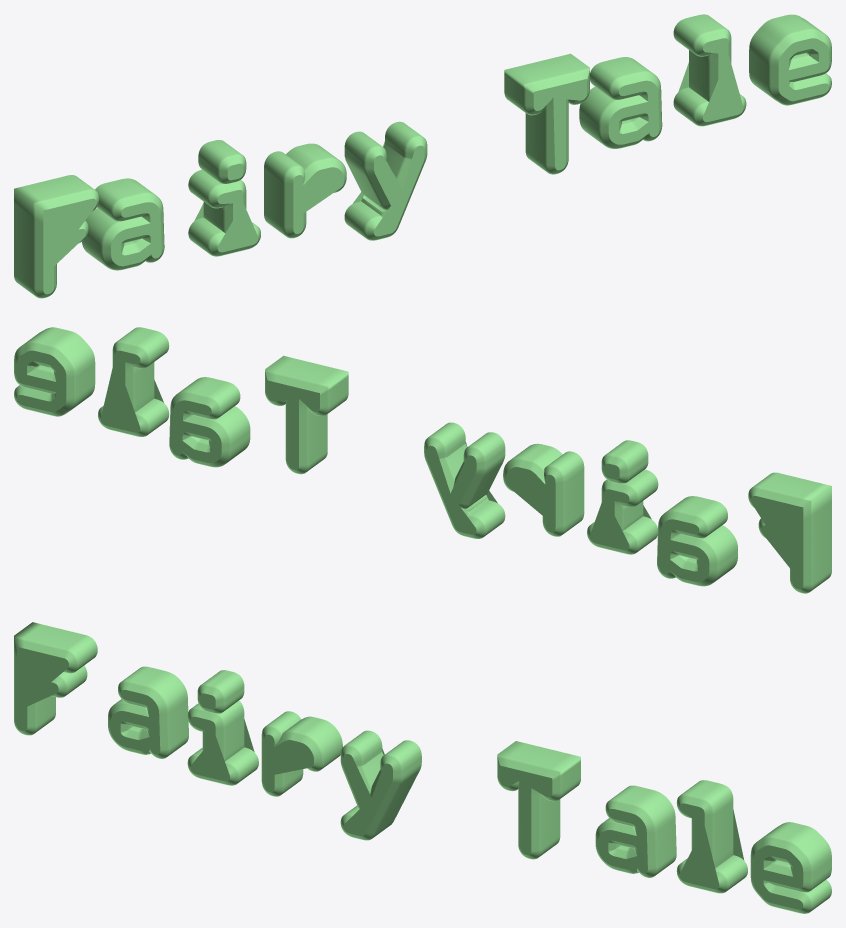
3 renders of one model, top to bottom at view 1: azimuth 30°, elevation 25°; view 2: azimuth 150°, elevation 25°; view 3: azimuth 330°, elevation 25°, orthographic. The views are drawn at different scales.
Visible parts, largest first — view 1: polySurface4, polySurface5, polySurface3, polySurface7, polySurface6; view 2: polySurface4, polySurface5, polySurface3, polySurface7, polySurface6; view 3: polySurface4, polySurface5, polySurface3, polySurface7, polySurface6.
Boxes of the visible parts, x1=… form: polySurface4: x1=188, y1=53, x2=589, y2=256; polySurface5: x1=673, y1=14, x2=831, y2=126; polySurface3: x1=14, y1=175, x2=99, y2=298; polySurface7: x1=579, y1=57, x2=662, y2=148; polySurface6: x1=82, y1=178, x2=164, y2=270; polySurface4: x1=265, y1=355, x2=658, y2=554; polySurface5: x1=14, y1=327, x2=169, y2=436; polySurface3: x1=748, y1=472, x2=831, y2=593; polySurface7: x1=169, y1=377, x2=250, y2=467; polySurface6: x1=657, y1=496, x2=737, y2=586; polySurface4: x1=187, y1=670, x2=580, y2=859; polySurface5: x1=676, y1=780, x2=831, y2=913; polySurface3: x1=14, y1=622, x2=97, y2=735; polySurface7: x1=595, y1=785, x2=676, y2=877; polySurface6: x1=108, y1=666, x2=188, y2=758.
Bounding box in the file's own units: 4.39 × 0.6383 × 0.3824.
